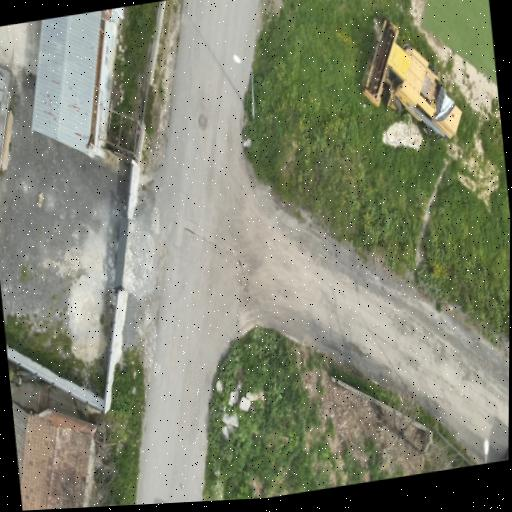truck: (362, 17, 461, 138), (503, 450, 507, 460)
